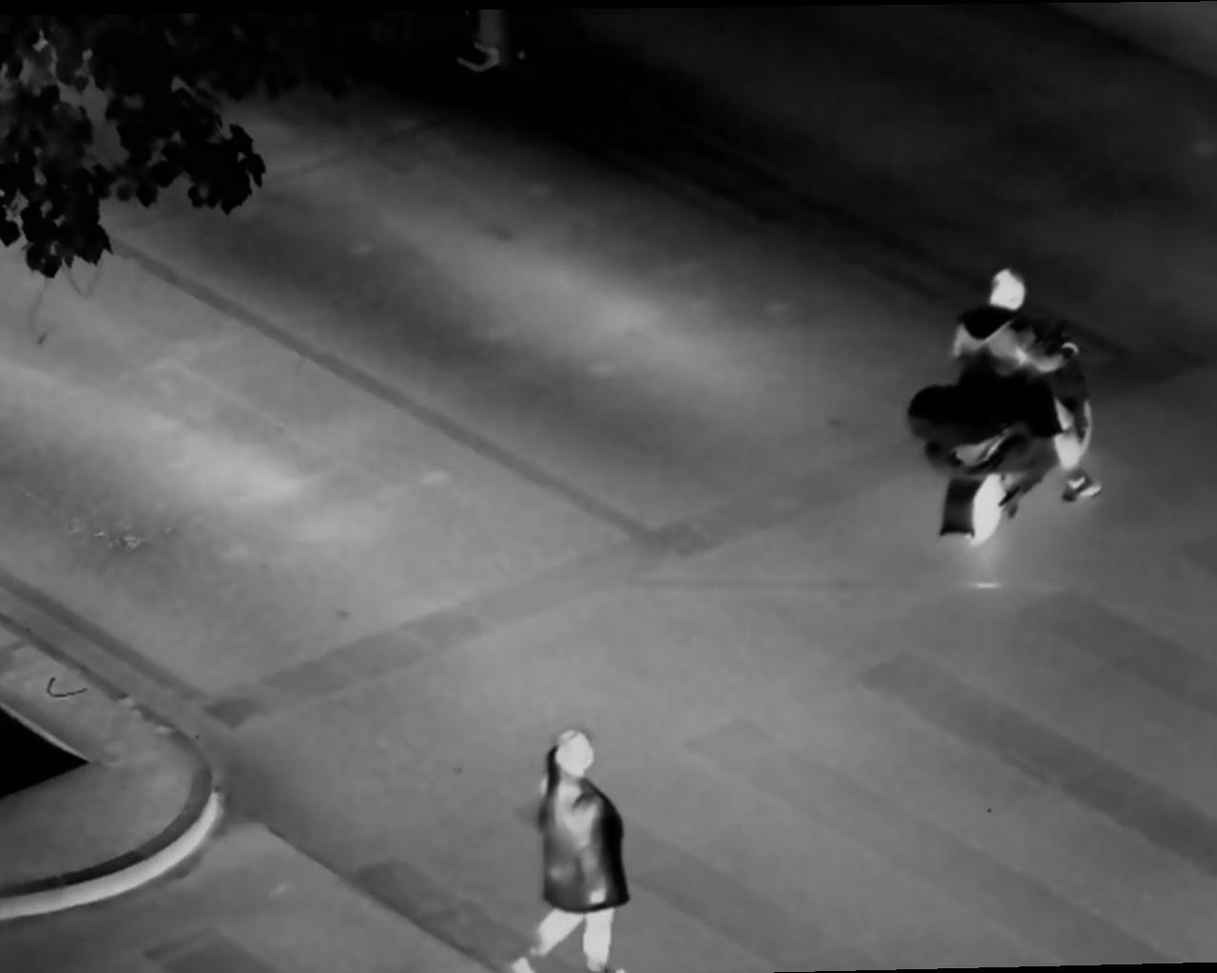person: (949, 264, 1095, 512), (525, 729, 654, 973)
